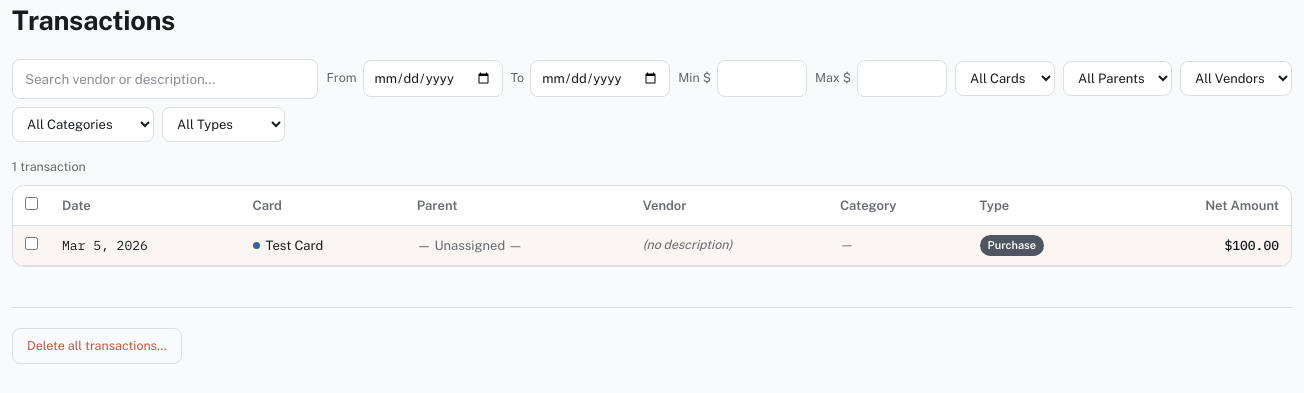
Transactions bulk-selection › keeps the selection when nothing else has changed
Click the checkbox named "Select transaction Mar 5, 2026 COSTCO WHOLESALE #123 $100.00" at point(32, 243), box left=25, top=236, right=38, bottom=250
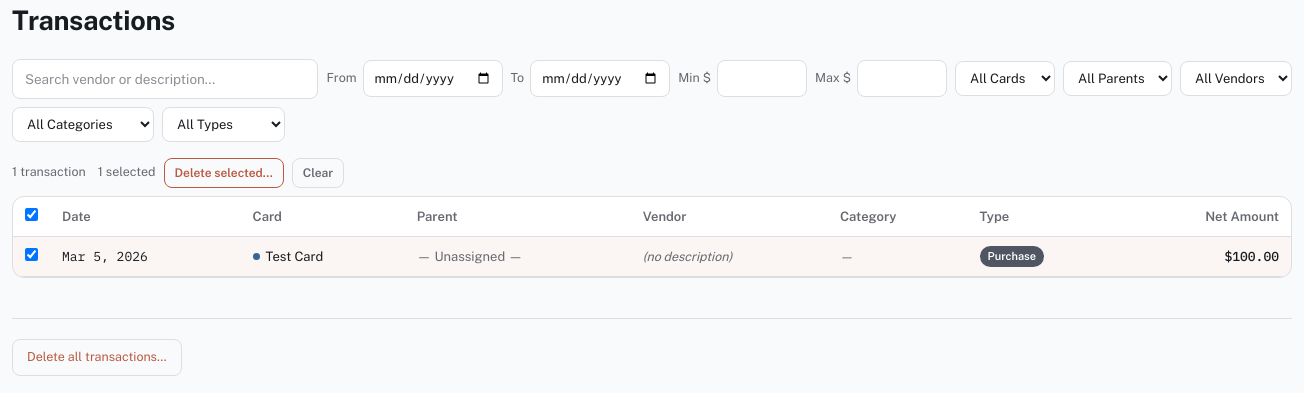
Check: the text "1 selected" is shown, box left=98, top=163, right=156, bottom=182
